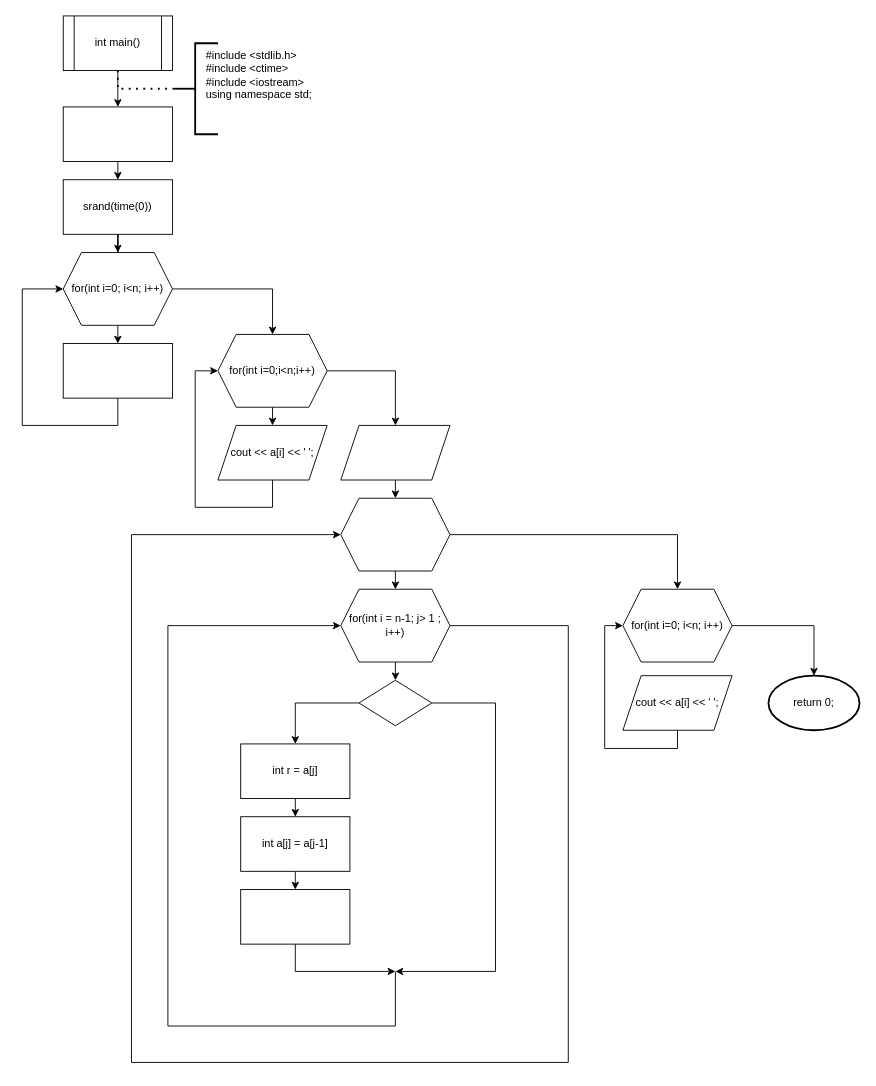
This 876x1086 diagram has some shape labels left out. The centre of each missing label's shape, as x and y in pixels:
"a[i] = rand()%100-50" belongs at point (117, 370).
"cout << endl;" belongs at point (395, 452).
"for(int i = 0; i <n-2; i++)" belongs at point (395, 534).
"if (a[j - 1] > a[j])" belongs at point (395, 702).
"int a[j-1] = r;" belongs at point (295, 916).
"int a[n];" belongs at point (117, 134).
